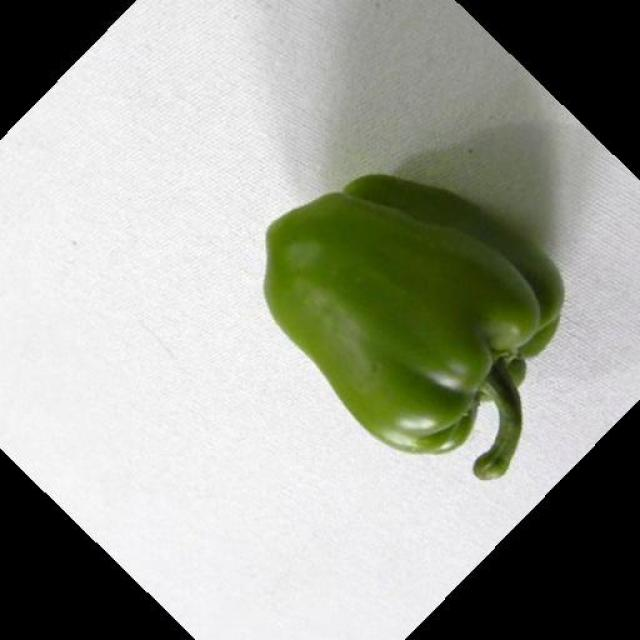Fresh_Capsicum: (230, 173, 547, 452)
